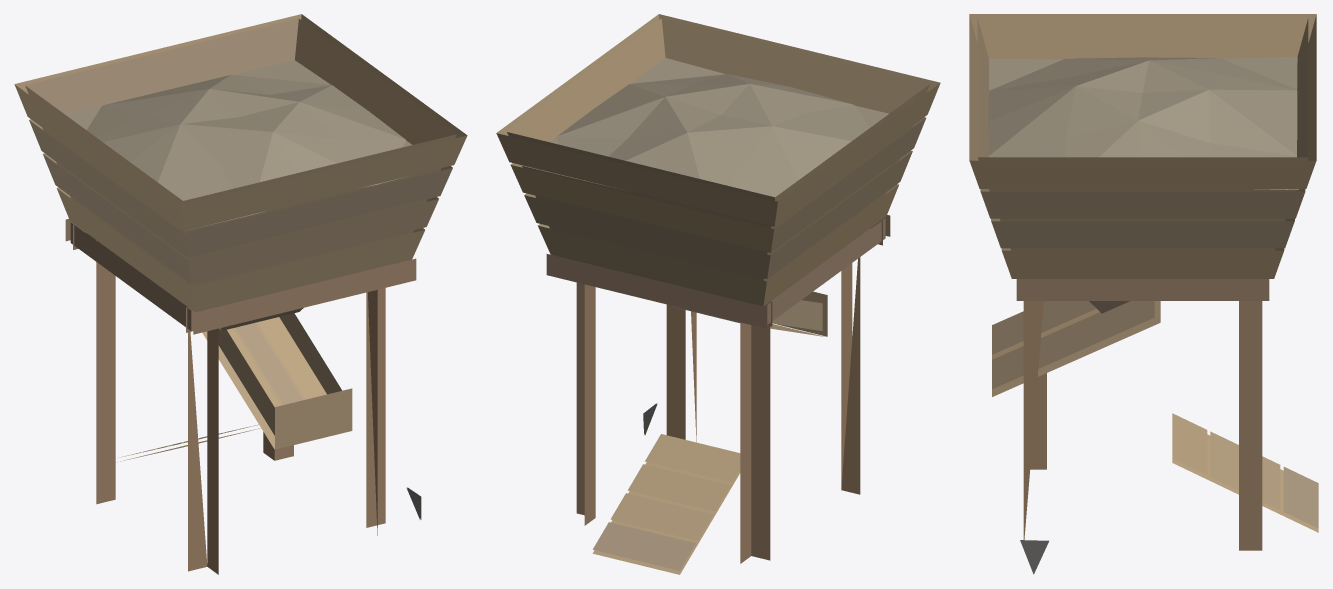
Rendered from tent_0.lod.glb.
The picture shows the model from 3 angles, left to right: view 1: azimuth 30°, elevation 25°; view 2: azimuth 150°, elevation 25°; view 3: azimuth 270°, elevation 25°; orthographic projection. The views are drawn at different scales.
Visible parts, largest first — view 1: tent_0; view 2: tent_0; view 3: tent_0.
Boxes of the visible parts, x1=… form: tent_0: x1=14, y1=14, x2=467, y2=574; tent_0: x1=496, y1=14, x2=940, y2=574; tent_0: x1=969, y1=14, x2=1318, y2=574.
Bounding box in the file's own units: 3.26 × 4.4 × 3.28.
